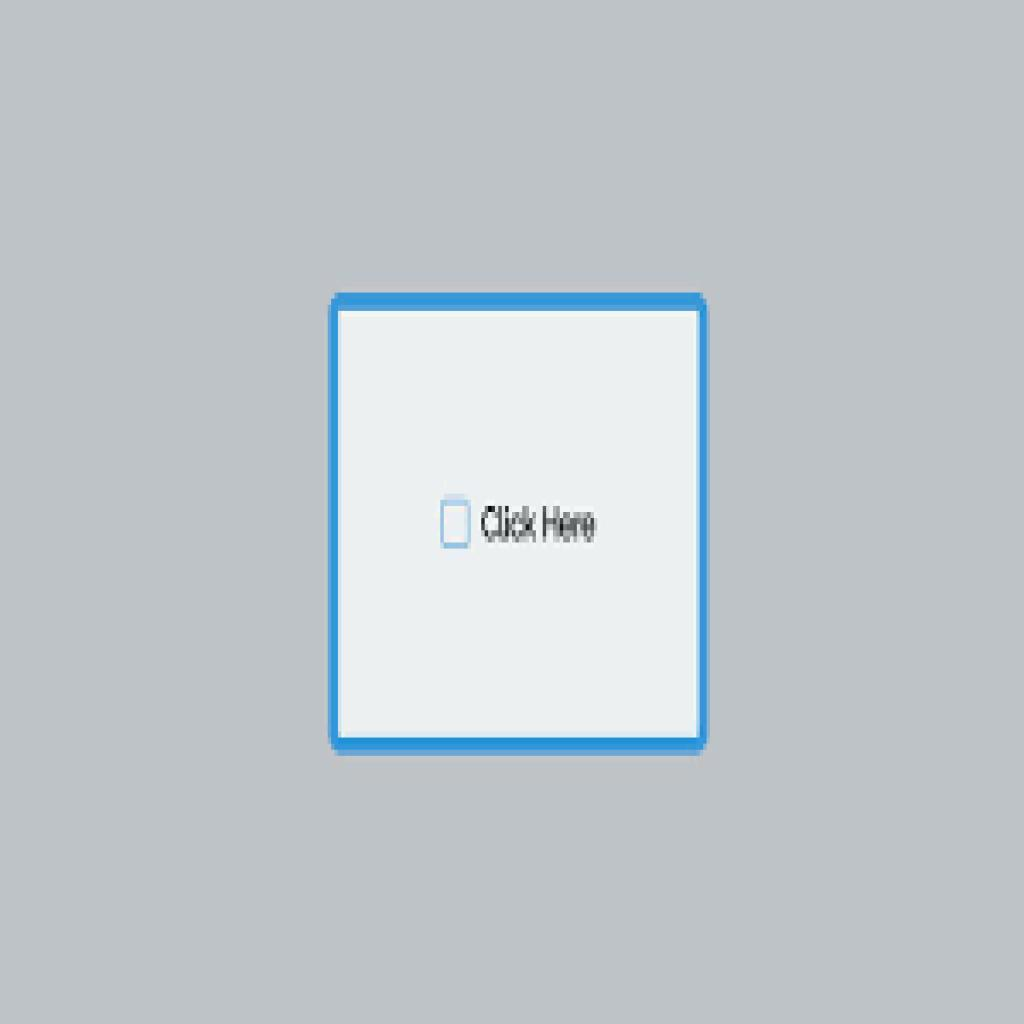checkbox: (439, 499, 471, 548)
